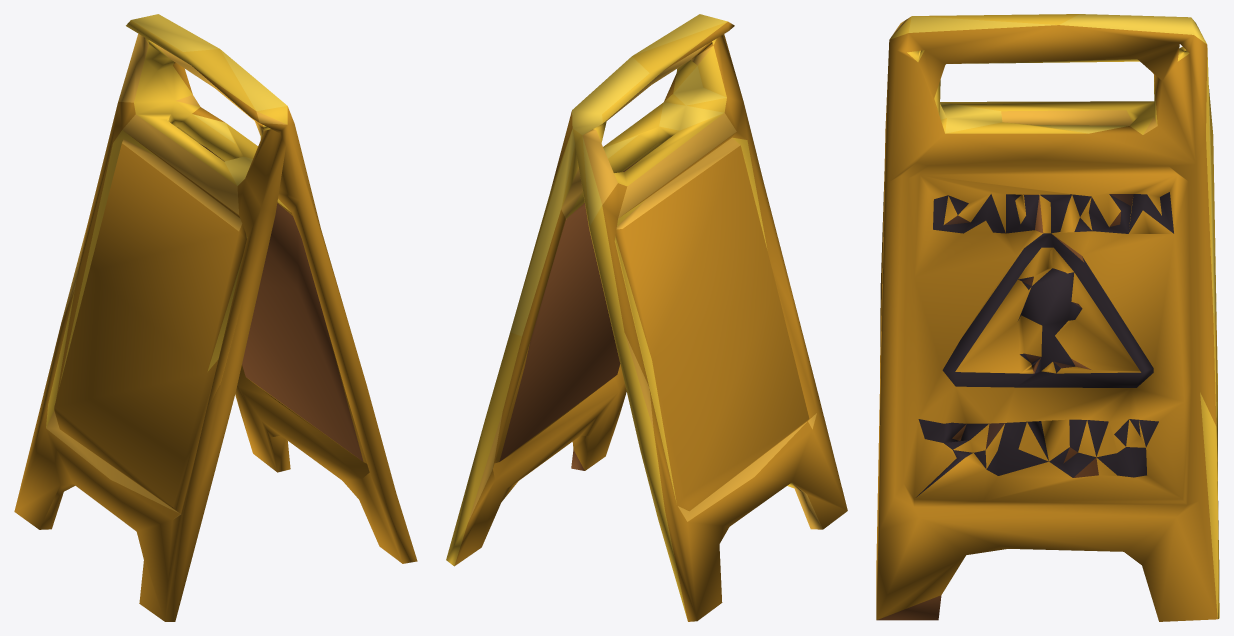
Rendered from SM_sign_wet_floor.glb.
3 renders of one model, left to right at view 1: azimuth 30°, elevation 25°; view 2: azimuth 150°, elevation 25°; view 3: azimuth 270°, elevation 25°, orthographic. The views are drawn at different scales.
Parts seen in each view (by area): view 1: SM_sign_wet_floor; view 2: SM_sign_wet_floor; view 3: SM_sign_wet_floor.
Part boxes in pixels (x1,y1,x2,y2): SM_sign_wet_floor: (14,14,417,621); SM_sign_wet_floor: (446,14,847,621); SM_sign_wet_floor: (876,14,1219,621).
Bounding box in the file's own units: 0.3269 × 0.6 × 0.348.
1 material, 1 textured.
